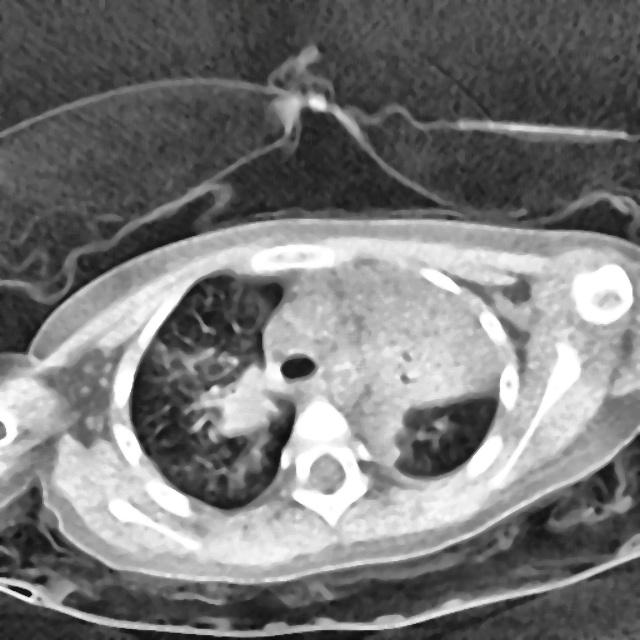covid: (1, 213, 638, 600)
